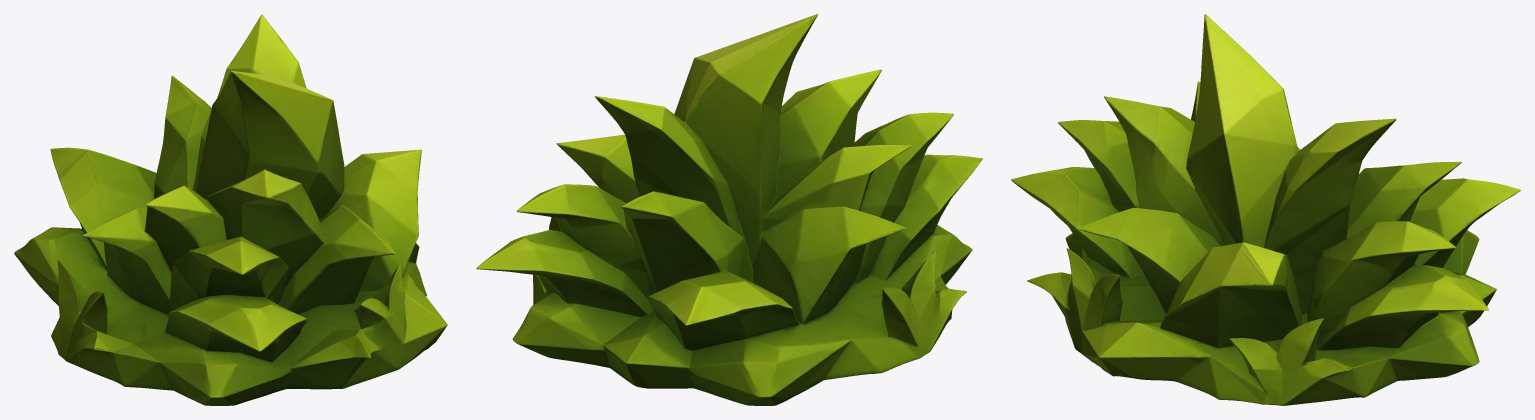
Rendered from KeepSakeGrass.glb.
3 renders of one model, left to right at view 1: azimuth 30°, elevation 25°; view 2: azimuth 150°, elevation 25°; view 3: azimuth 270°, elevation 25°, orthographic. The views are drawn at different scales.
Parts seen in each view (by area): view 1: tripo_node_c8f41d8f-a73d-45c5-a3d4-0a9a63b0bb45; view 2: tripo_node_c8f41d8f-a73d-45c5-a3d4-0a9a63b0bb45; view 3: tripo_node_c8f41d8f-a73d-45c5-a3d4-0a9a63b0bb45.
Boxes of the visible parts, x1,y1,x2,y2 form: tripo_node_c8f41d8f-a73d-45c5-a3d4-0a9a63b0bb45: (14,14,447,405); tripo_node_c8f41d8f-a73d-45c5-a3d4-0a9a63b0bb45: (476,14,982,405); tripo_node_c8f41d8f-a73d-45c5-a3d4-0a9a63b0bb45: (1011,14,1520,405).
Bounding box in the file's own units: 0.8267 × 0.604 × 0.9792.
Materials: 1 (1 with a texture image).
